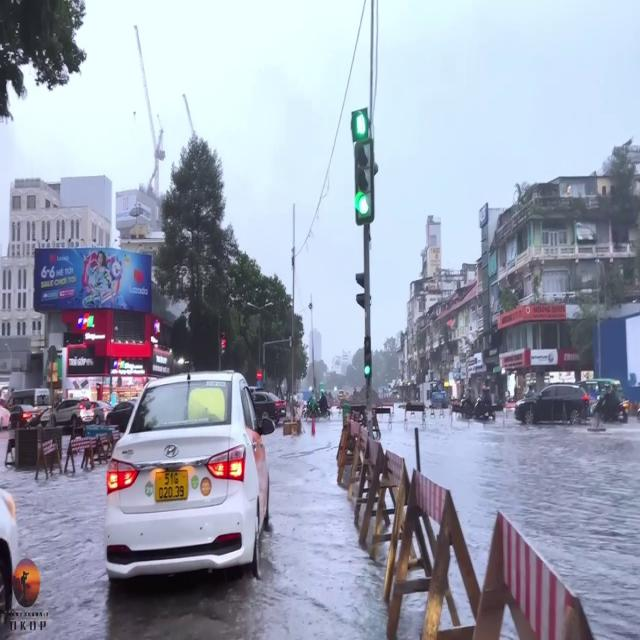bien_vang: (158, 471, 186, 498)
